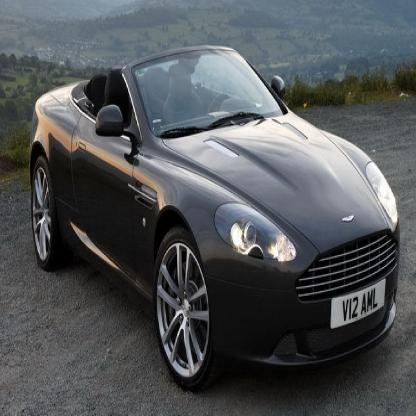car: (3, 40, 415, 396)
